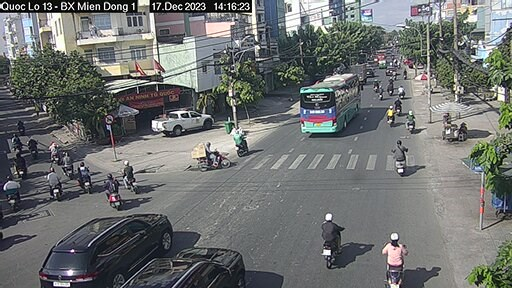bus: (302, 73, 360, 136)
car: (46, 213, 170, 281), (147, 242, 247, 288), (150, 109, 216, 135)
motorbike: (321, 207, 347, 277), (378, 236, 407, 288), (195, 138, 232, 170), (4, 178, 29, 214), (389, 138, 409, 178), (104, 177, 125, 209), (45, 170, 64, 199), (77, 163, 95, 186)
